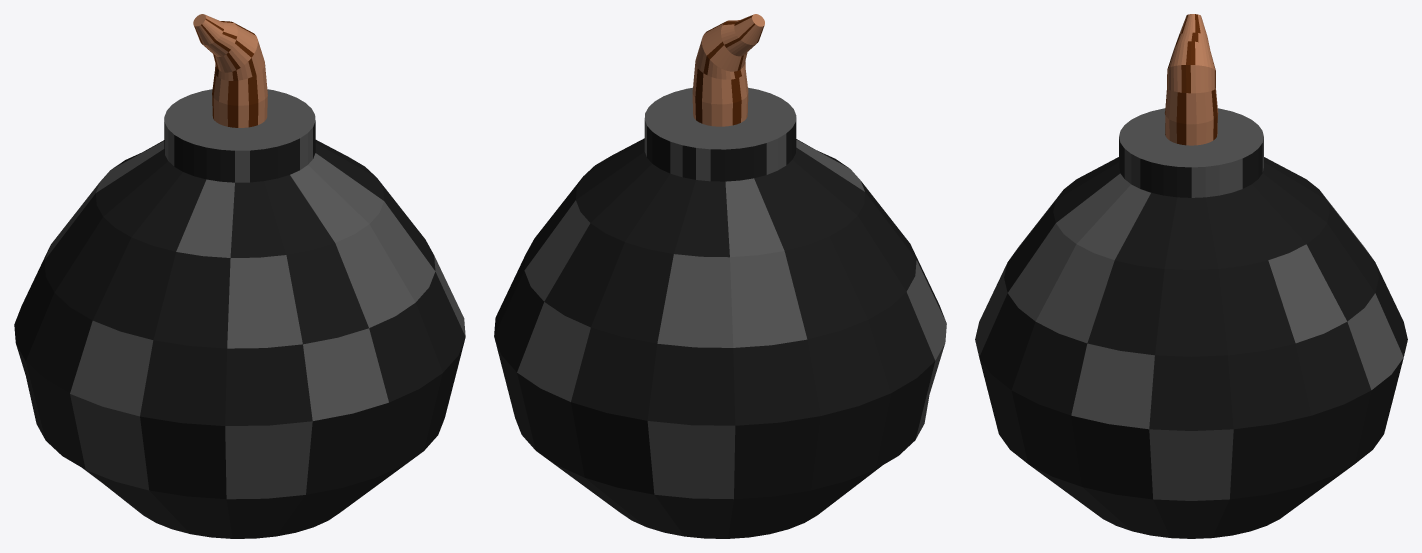
File: Bomb.fbx
The picture shows the model from 3 angles, left to right: view 1: azimuth 30°, elevation 25°; view 2: azimuth 150°, elevation 25°; view 3: azimuth 270°, elevation 25°; orthographic projection. The views are drawn at different scales.
Visible parts, largest first — view 1: Cylinder; view 2: Cylinder; view 3: Cylinder.
Part boxes in pixels (x1=…): Cylinder: x1=14, y1=14, x2=465, y2=538; Cylinder: x1=494, y1=14, x2=946, y2=538; Cylinder: x1=975, y1=14, x2=1407, y2=538.
Size of the model in its own units: 200 by 237 by 200.
